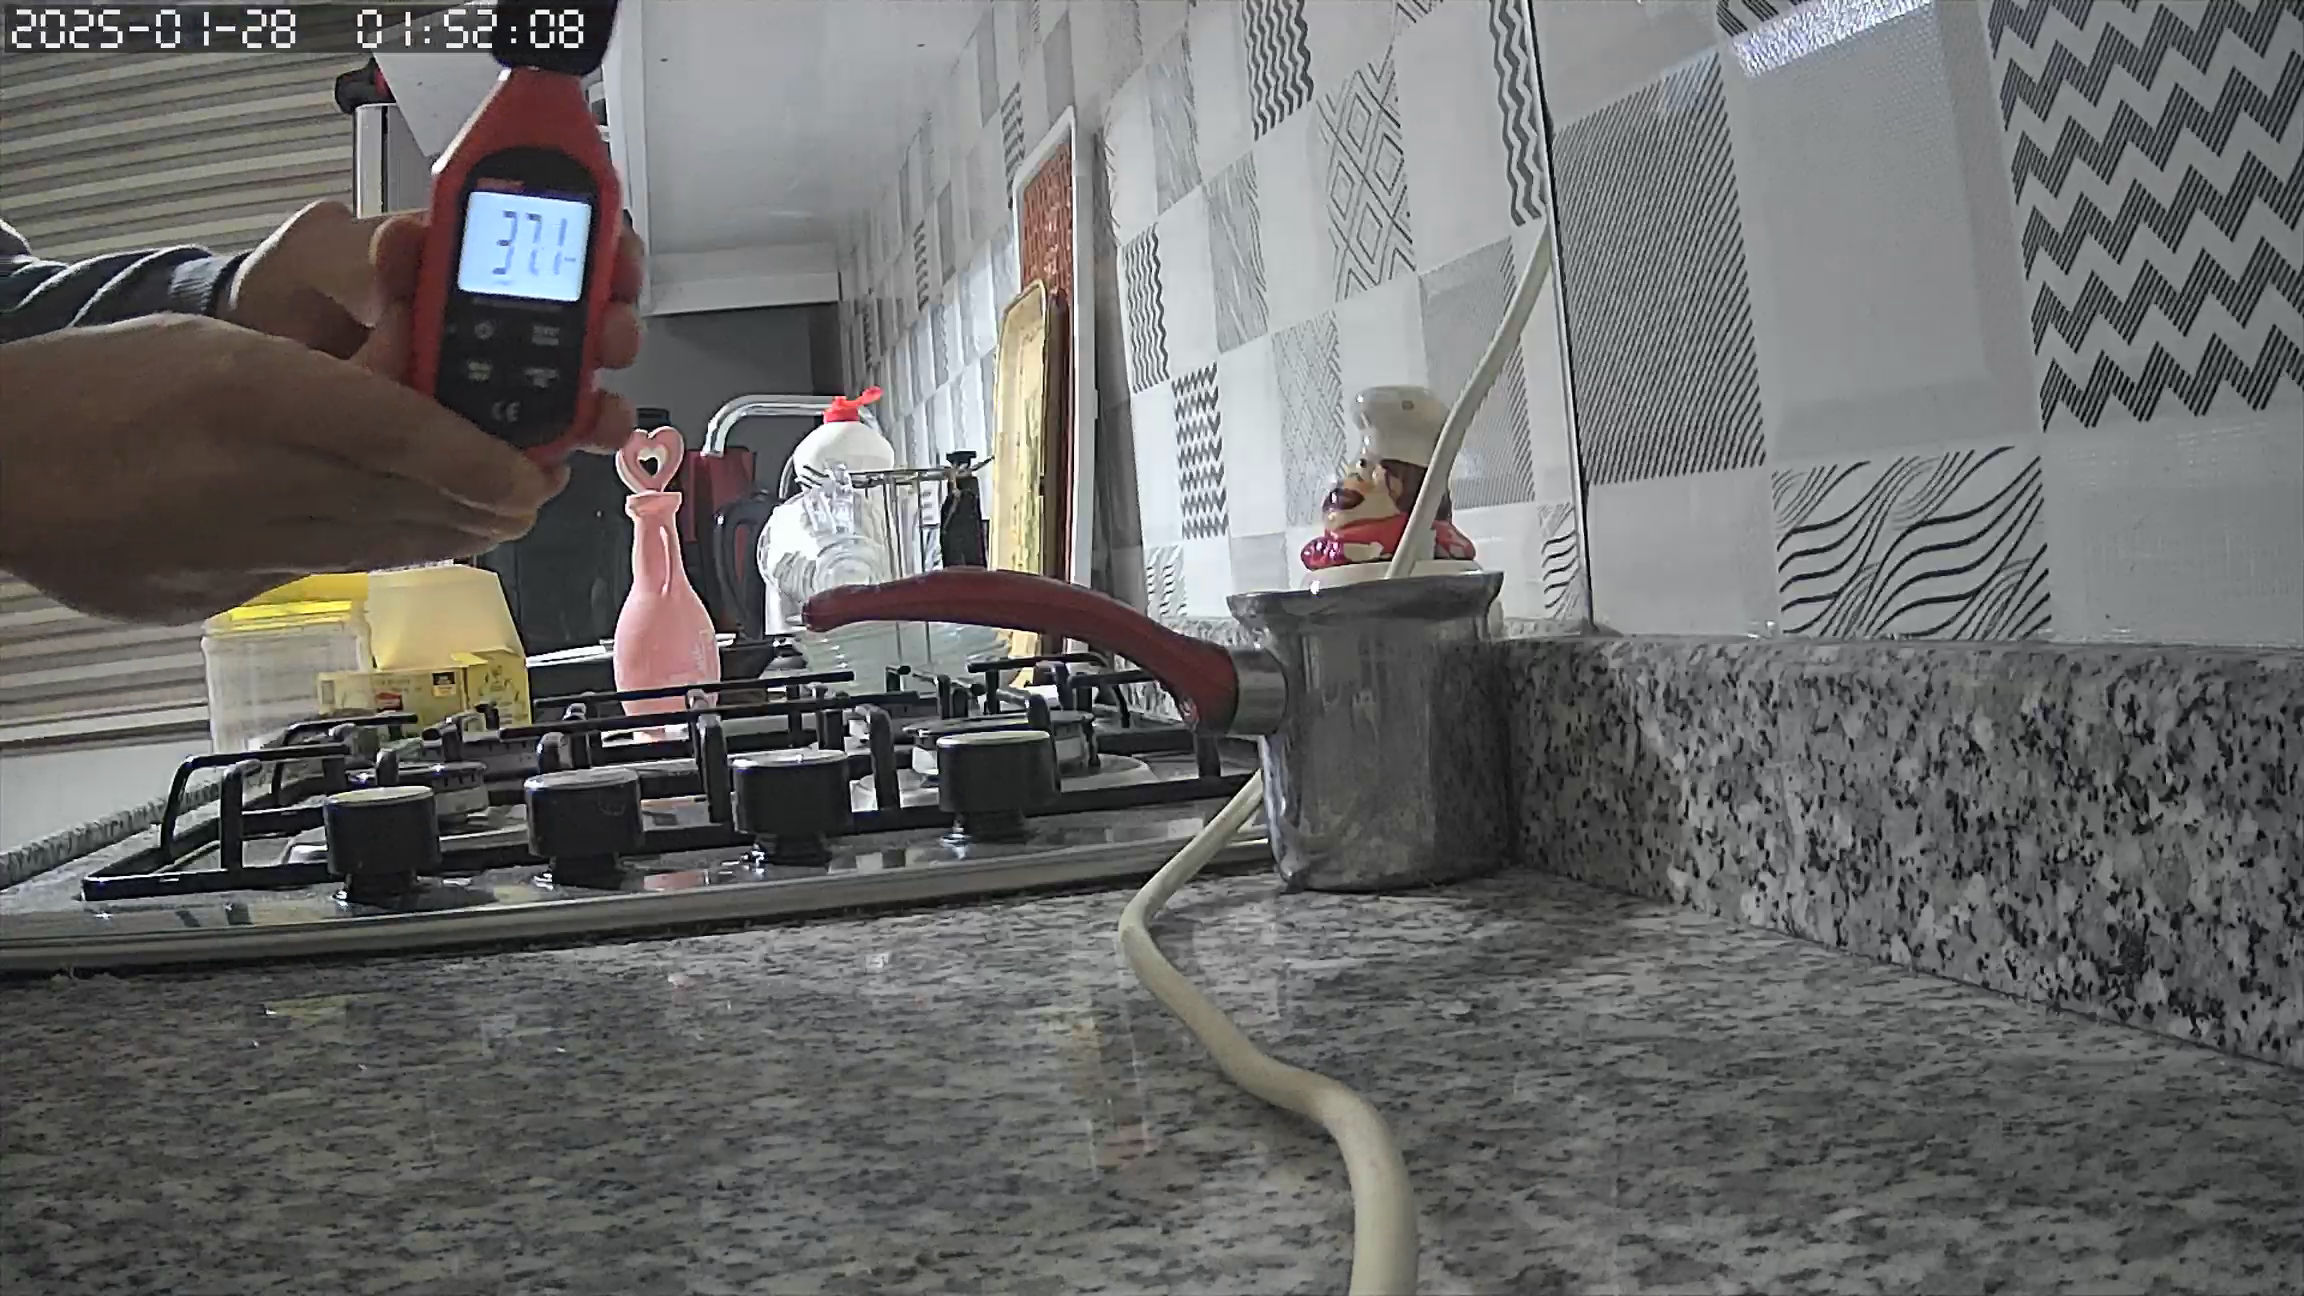screen: (456, 185, 592, 305)
